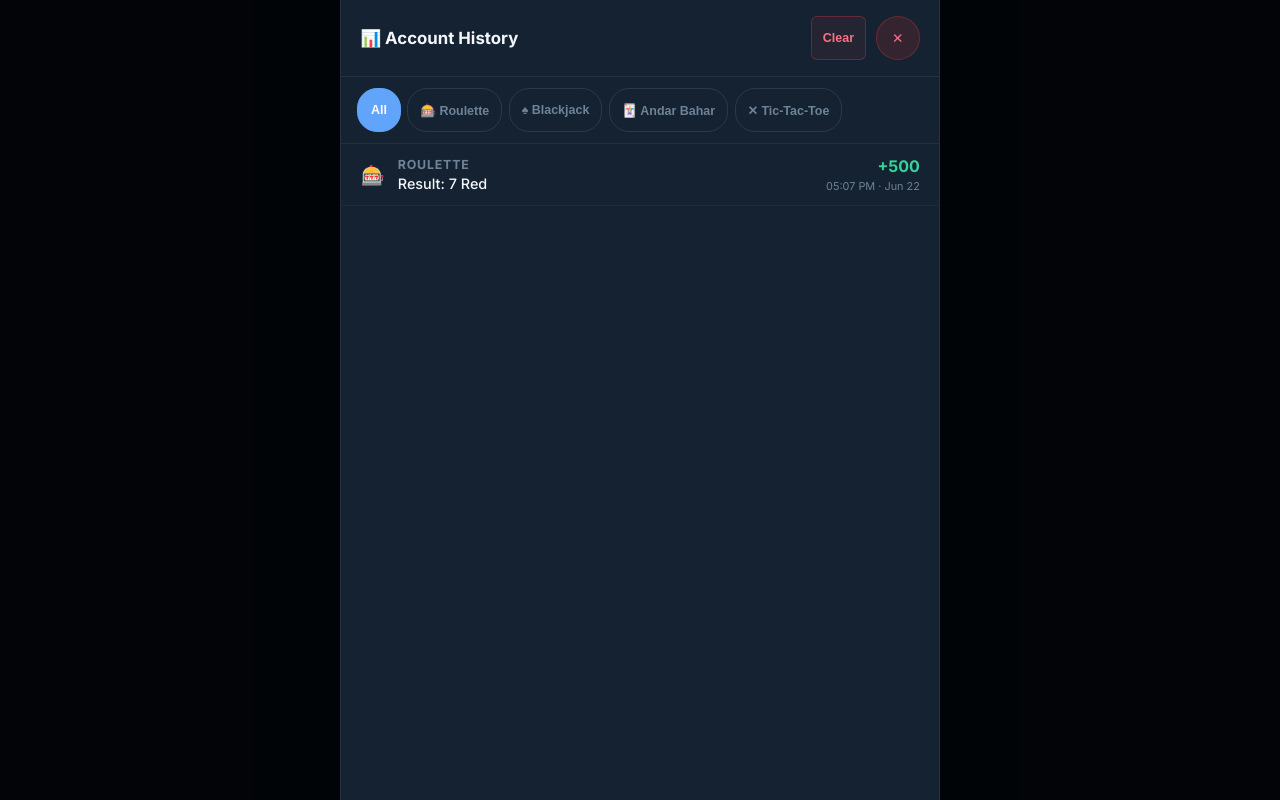
Test: AccountHistory › clear history › clears all history when Clear button clicked
Step 1. Click the button "Clear" → point(838, 38), box [811,16,866,60]
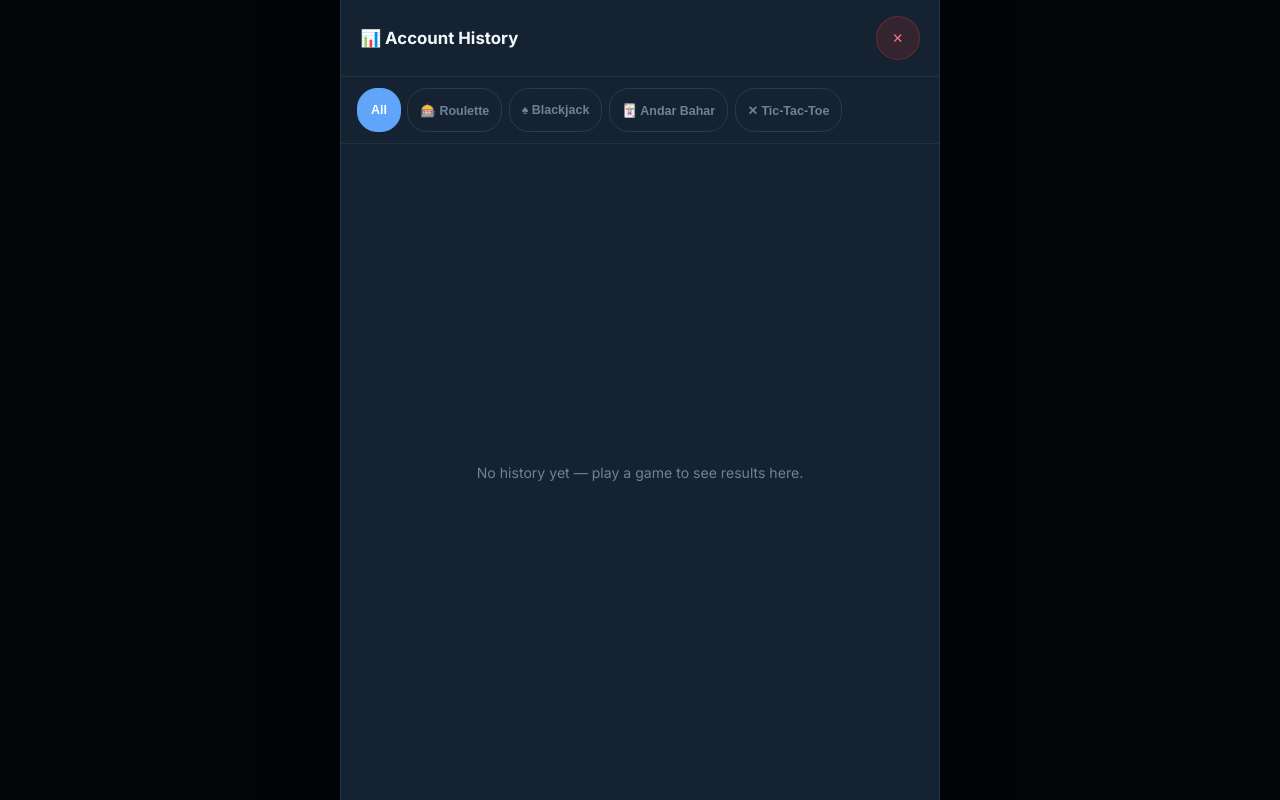
Check: the text "No history yet — play a game to see results here." is shown, box [477,464,803,481]
